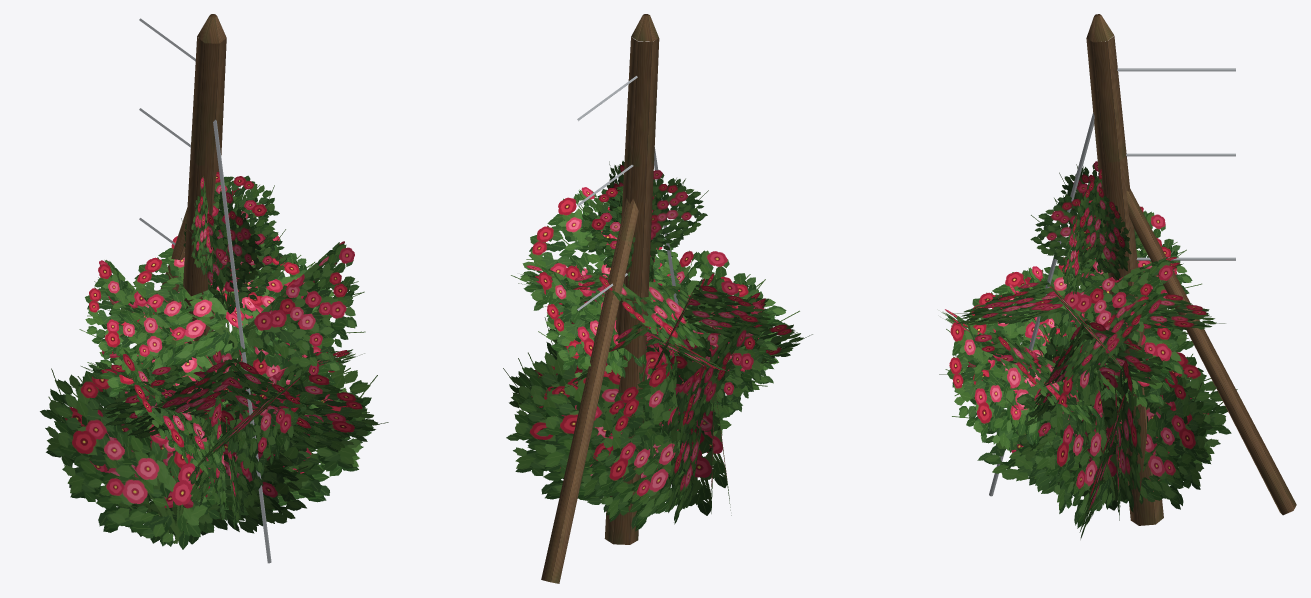
The model's file is vineyard_rose_post.glb.
3 views of the same model, side by side, from view 1: azimuth 30°, elevation 25°; view 2: azimuth 150°, elevation 25°; view 3: azimuth 270°, elevation 25° (orthographic). The views are drawn at different scales.
Parts seen in each view (by area): view 1: RosePost_Bush, RosePost_Timber, RosePost_Wire; view 2: RosePost_Bush, RosePost_Timber, RosePost_Wire; view 3: RosePost_Bush, RosePost_Timber, RosePost_Wire.
Boxes of the visible parts, x1,y1,x2,y2 form: RosePost_Bush: (40, 172, 388, 549); RosePost_Timber: (151, 14, 226, 360); RosePost_Wire: (139, 18, 271, 563); RosePost_Bush: (503, 161, 812, 531); RosePost_Timber: (541, 14, 659, 583); RosePost_Wire: (577, 76, 678, 310); RosePost_Bush: (939, 161, 1237, 539); RosePost_Timber: (1086, 14, 1296, 525); RosePost_Wire: (989, 68, 1235, 496).
Bounding box in the file's own units: 1.43 × 2.16 × 1.58.
3 materials, 2 textured.
